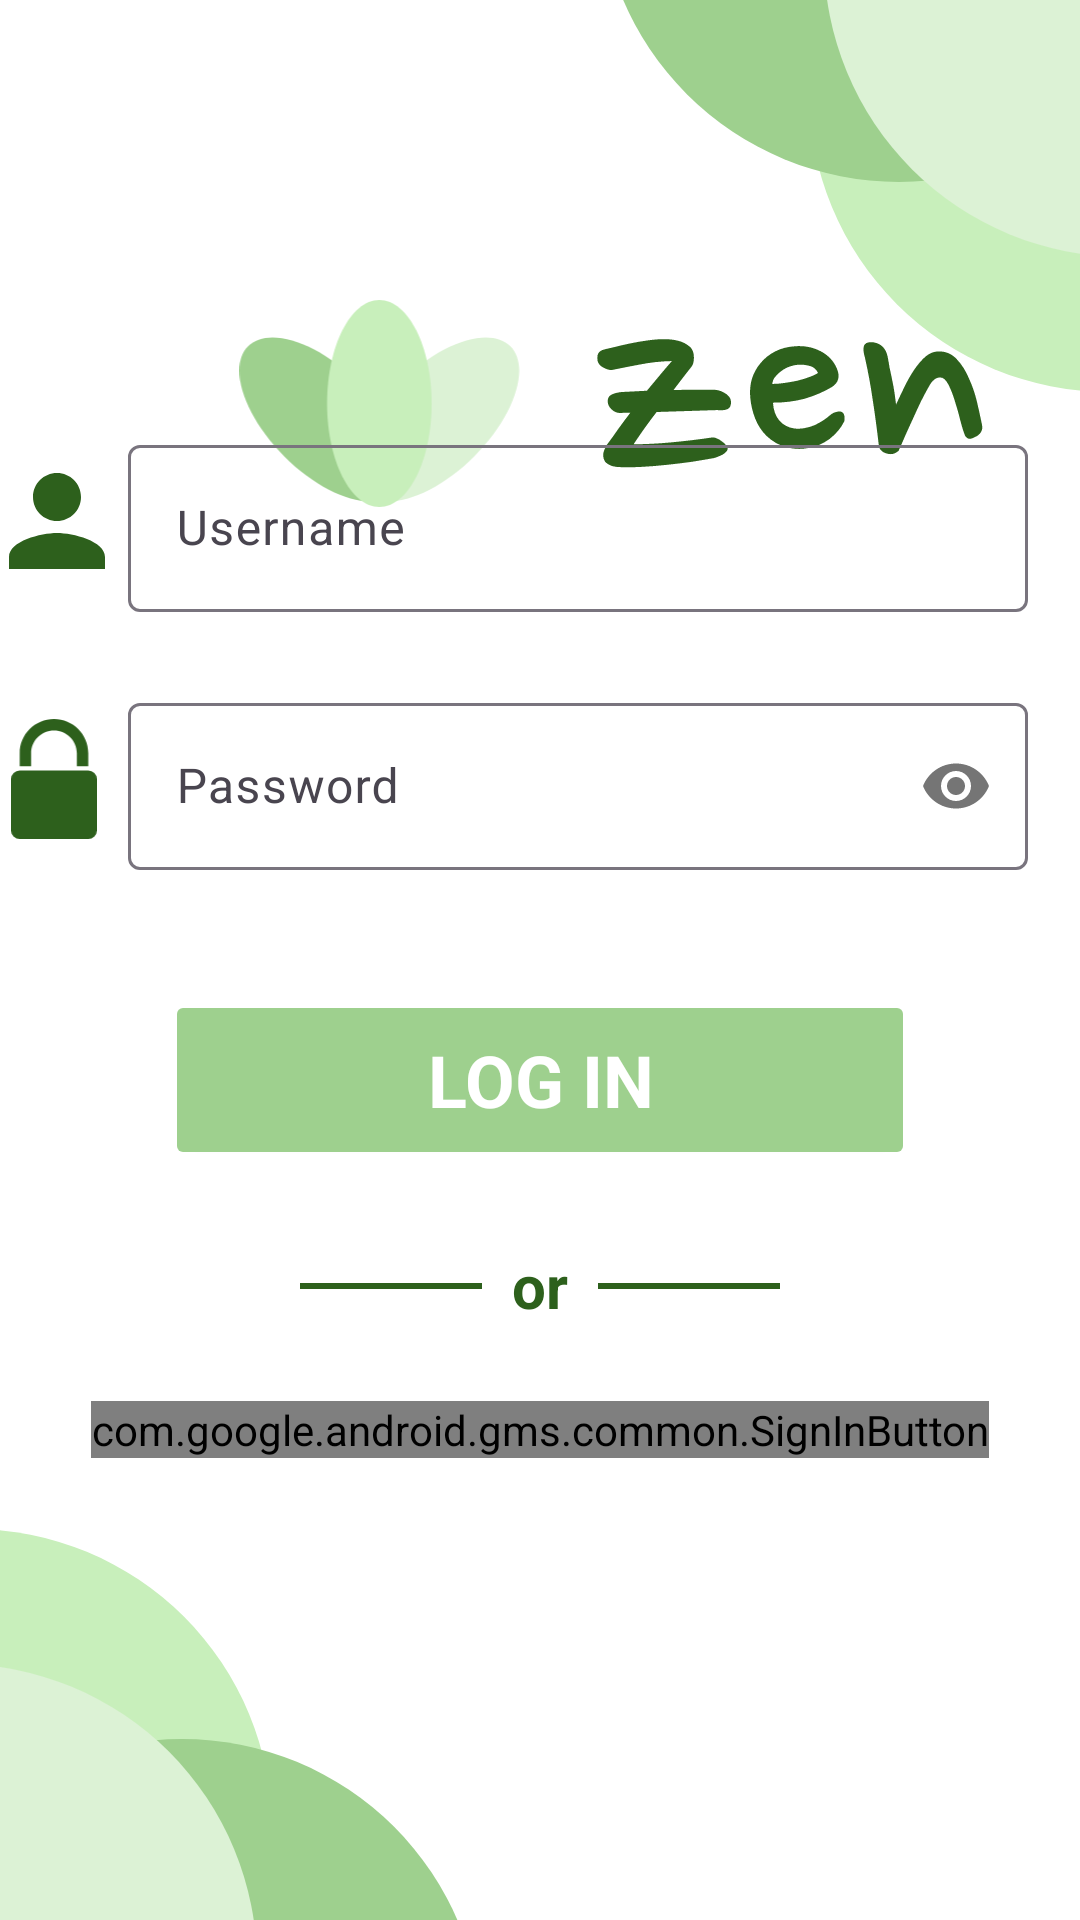

Where to tap for icons on this 1080 × 1920 app screen, as [x,y]:
padlock: [54,779]
